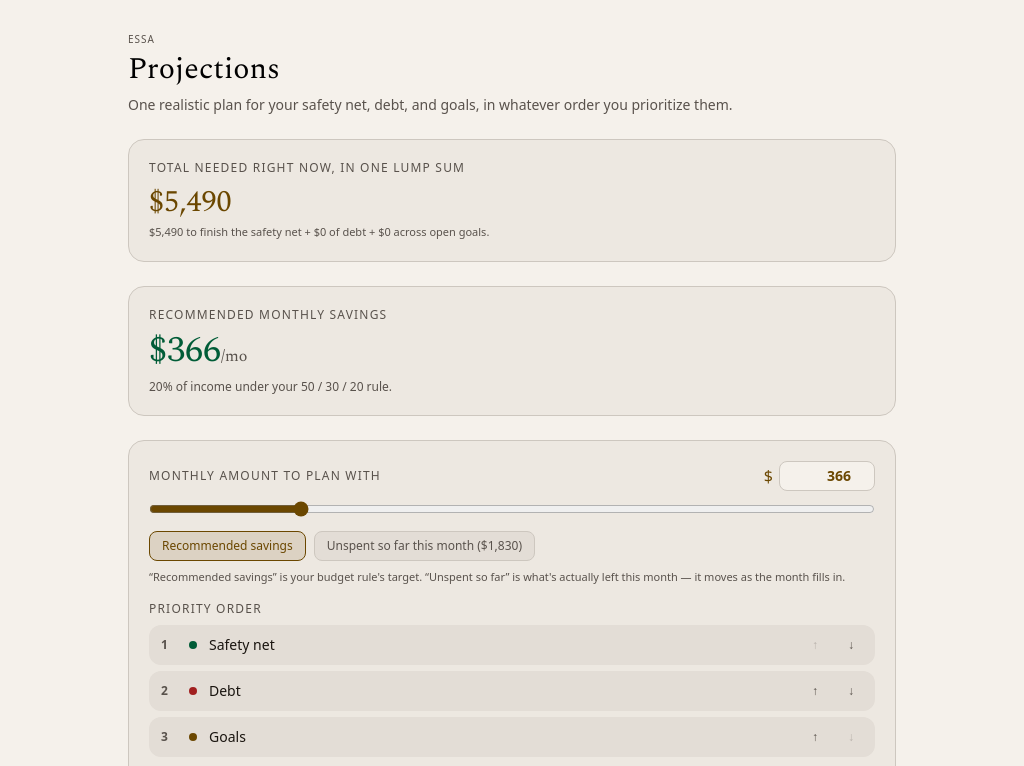
ProjectionsScreen — both inputs respect the cap, and the track no longer grows › the number input clamps a value above the cap
Replace the text in the number field named "Monthly amount to plan with" with "99999" at (827, 476), box [779,460,875,490]
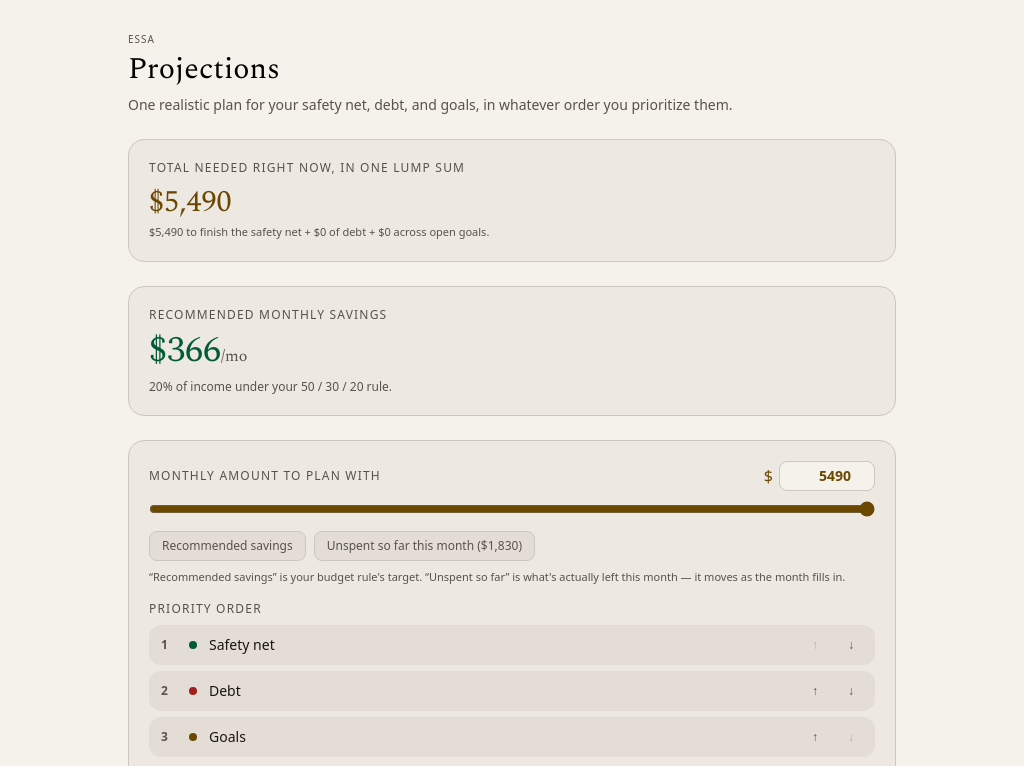
Result: the number field named "Monthly amount to plan with" holds "5490" at [779,460,875,490]
